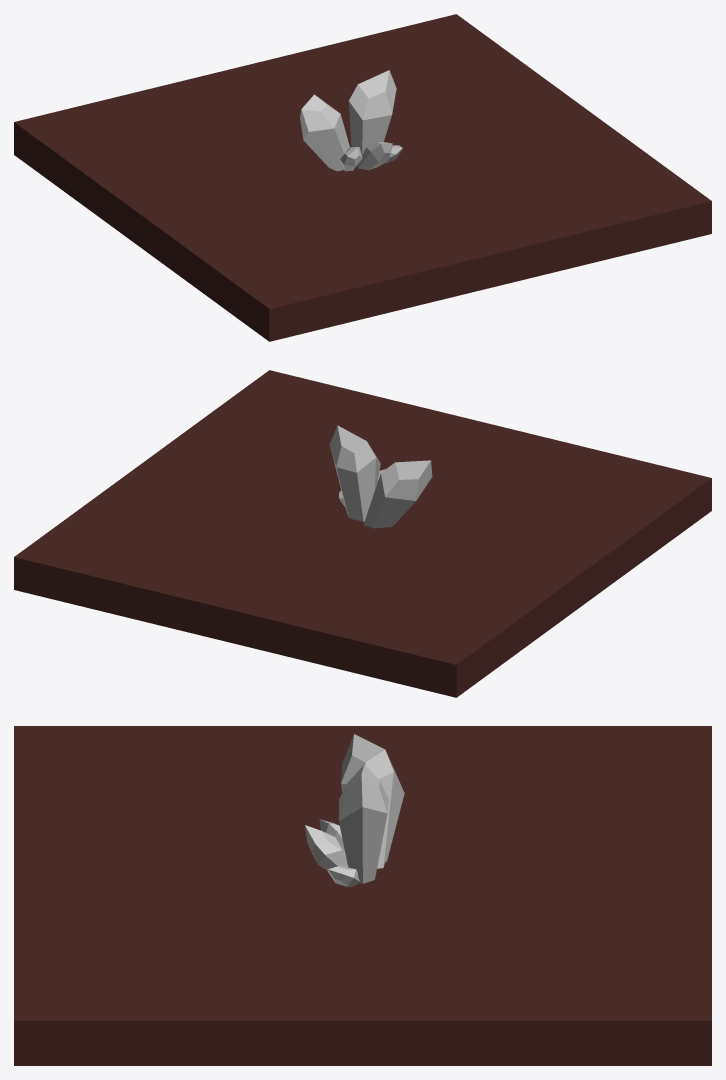
Rendered from cristal.obj.
3 renders of one model, top to bottom at view 1: azimuth 30°, elevation 25°; view 2: azimuth 150°, elevation 25°; view 3: azimuth 270°, elevation 25°, orthographic. The views are drawn at different scales.
Visible parts, largest first — view 1: Plane, Cube, Cube.001, Cube.003; view 2: Plane, Cube, Cube.001; view 3: Plane, Cube, Cube.001, Cube.003.
Boxes of the visible parts, x1,y1,x2,y2 form: Plane: (14,14,711,341); Cube: (348,70,396,155); Cube.001: (300,94,349,171); Cube.003: (357,142,392,170); Plane: (14,370,711,697); Cube: (329,425,380,521); Cube.001: (363,460,432,528); Plane: (14,726,711,1065); Cube: (338,764,388,883); Cube.001: (341,734,404,868); Cube.003: (305,825,348,870).
Bounding box in the file's own units: 43.09 × 11.02 × 43.09.
